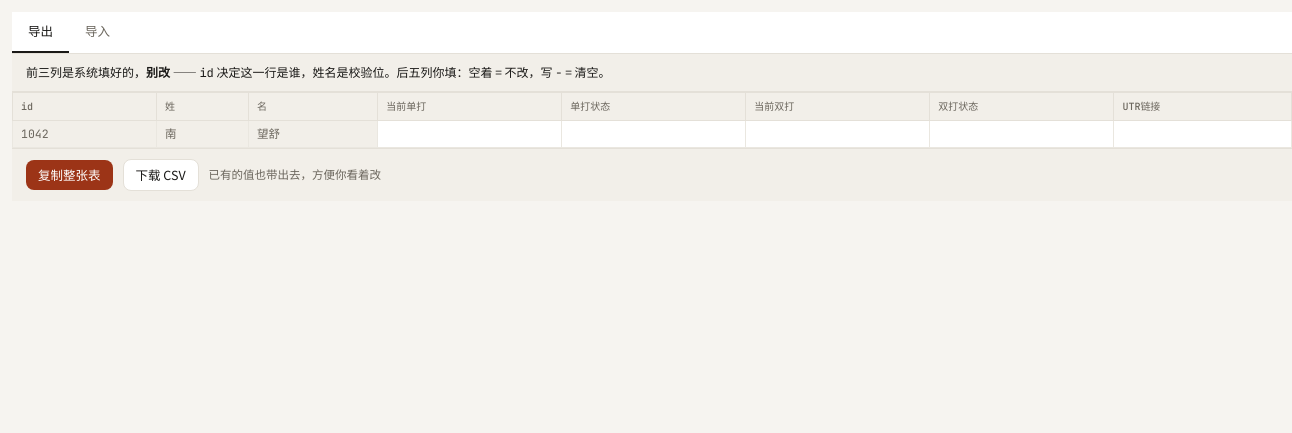
Test: when the round trip fails › says the diff could not be read
Click the button "导入". click: (98, 32)
box: [69,12,126,53]
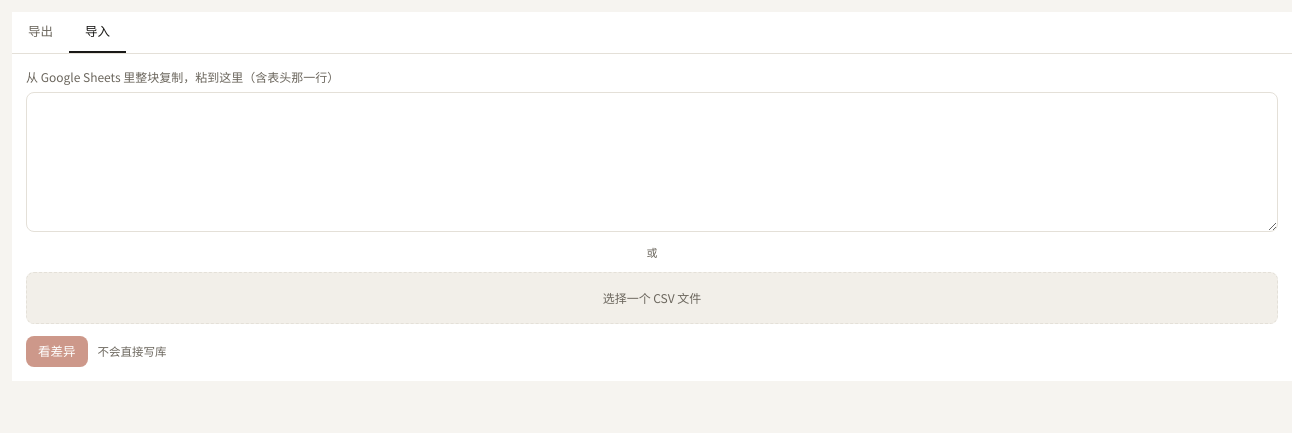
Type "SHEET-TEXT" into the text box. click: (652, 162)
box: [26,92,1278,232]
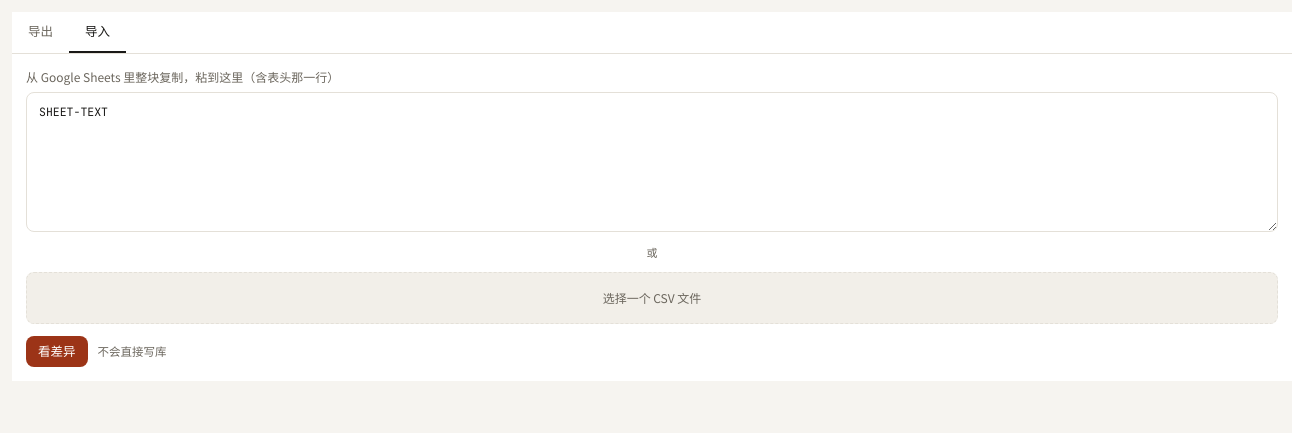
Click the button "看差异". click: (57, 352)
box: [26,336,88,367]
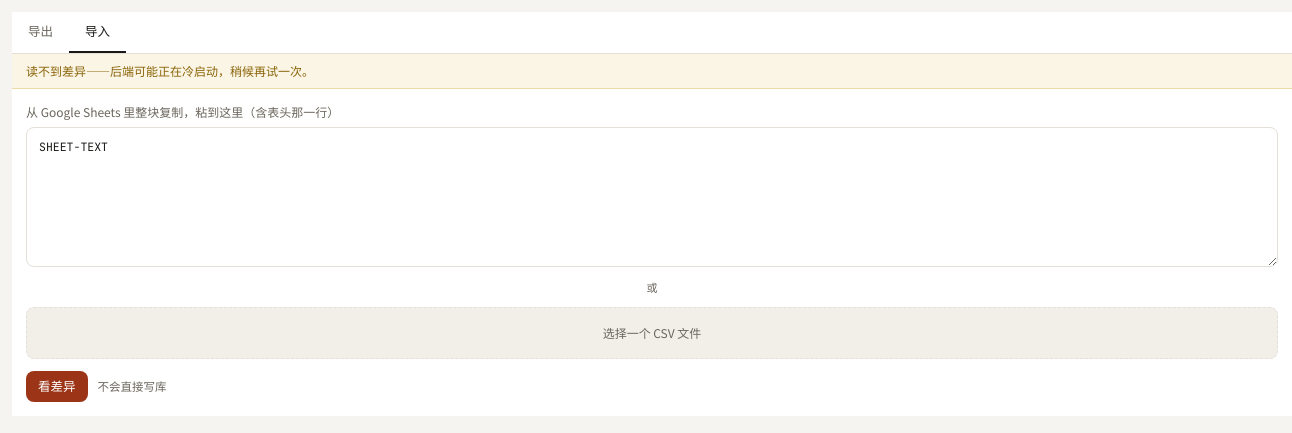
expect the text "读不到差异——后端可能正在冷启动，稍候再试一次。" is shown: met, box [12,54,1291,89]
